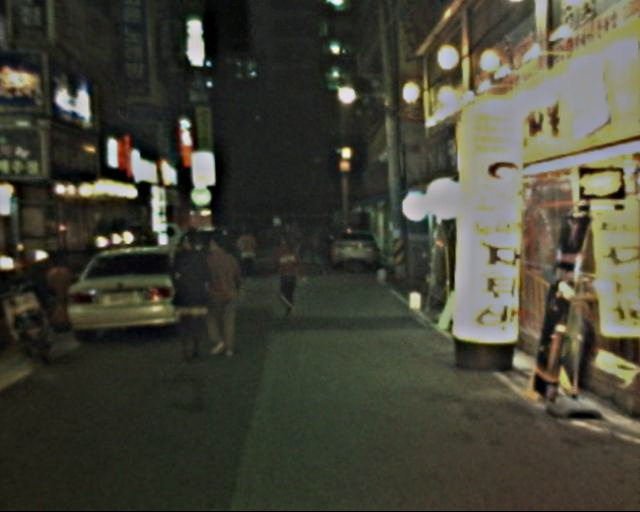person: (169, 226, 219, 370), (196, 225, 247, 362), (269, 224, 307, 317), (271, 206, 299, 279), (234, 221, 262, 286), (314, 224, 335, 278)
